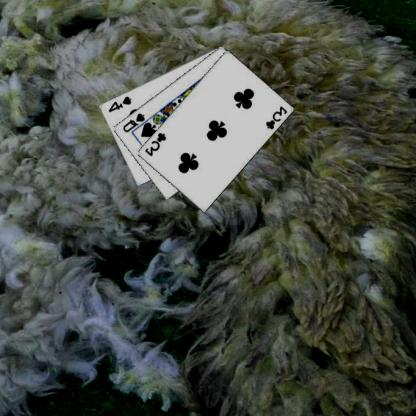3C: (143, 130, 169, 157), (264, 104, 289, 130)
4S: (108, 94, 134, 114)
QS: (122, 110, 148, 134)
